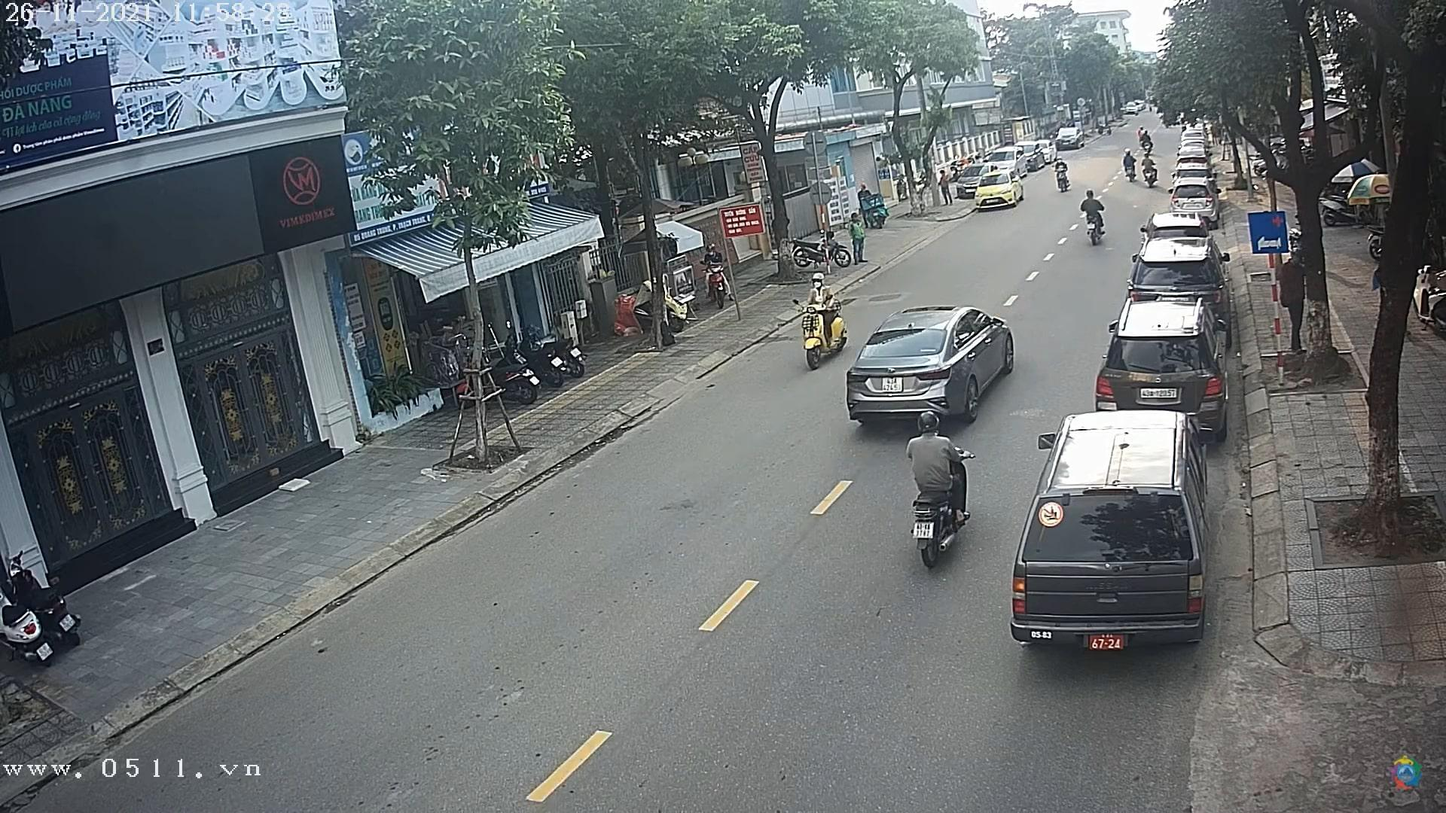car: (1014, 413, 1208, 649), (842, 305, 1016, 429), (1095, 304, 1227, 435), (1128, 239, 1230, 302), (1143, 211, 1212, 240), (1057, 125, 1086, 150)
motorbike: (908, 488, 971, 574), (803, 301, 846, 367), (1085, 213, 1113, 246)
